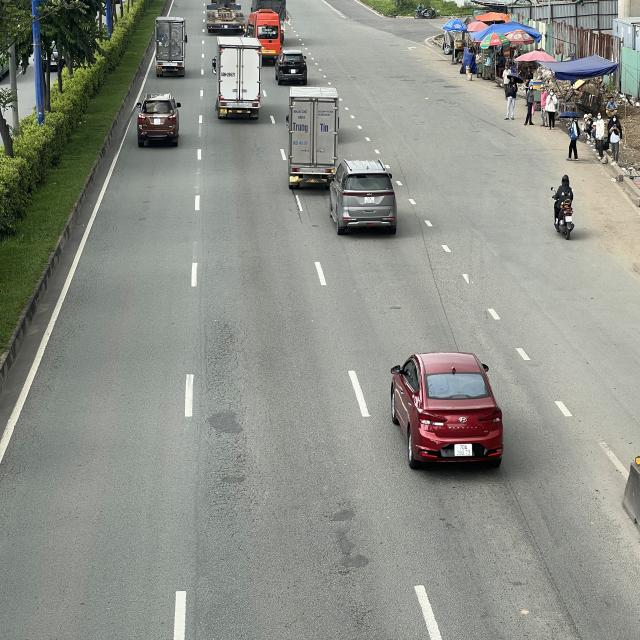car: (389, 350, 505, 469), (329, 159, 398, 235), (137, 92, 180, 146), (276, 52, 309, 89)
coach: (248, 11, 281, 60)
container: (206, 0, 246, 32)
truck: (286, 85, 338, 184), (213, 35, 262, 121), (154, 18, 188, 74)
